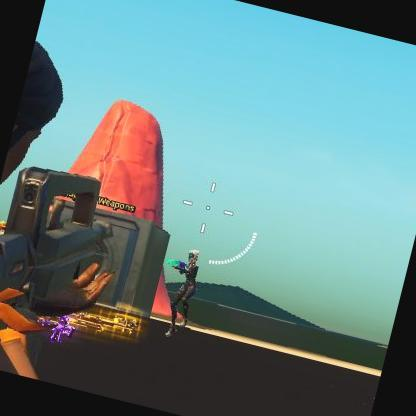person: (155, 246, 211, 343)
